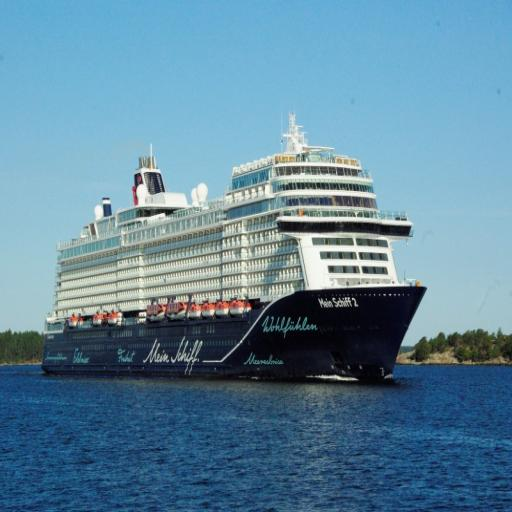cruises: (40, 113, 430, 392)
